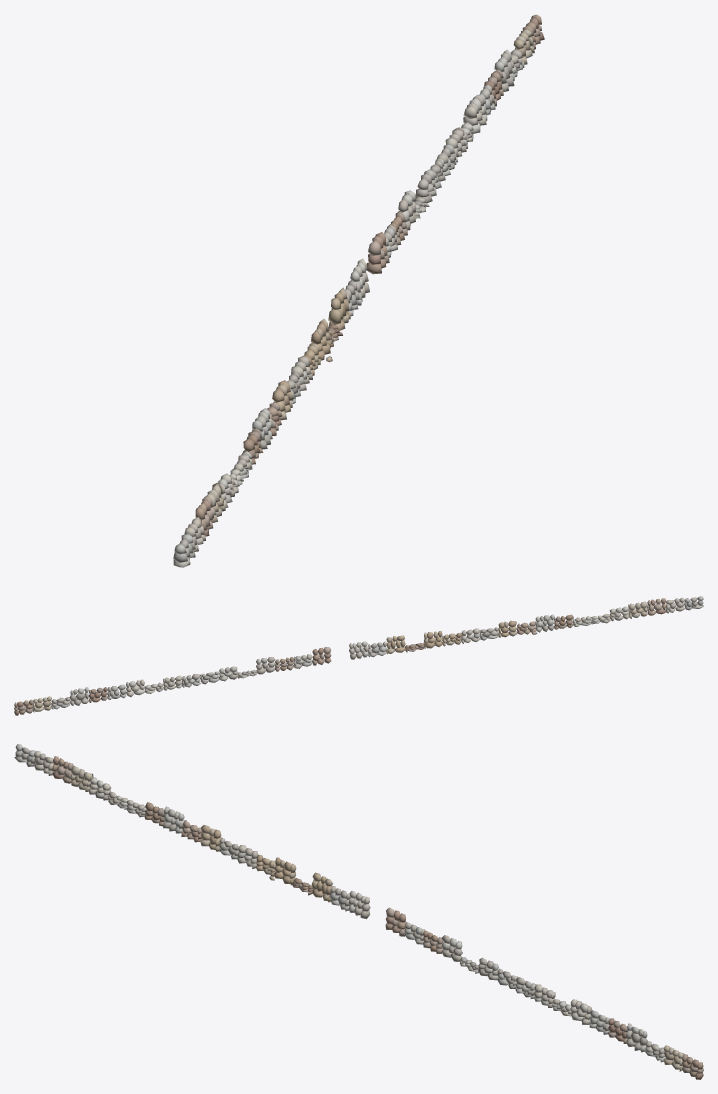
File: farm_-9_4_near.glb
3 renders of one model, top to bottom at view 1: azimuth 30°, elevation 25°; view 2: azimuth 150°, elevation 25°; view 3: azimuth 270°, elevation 25°, orthographic. The views are drawn at different scales.
Parts seen in each view (by area): view 1: geometry_0; view 2: geometry_0; view 3: geometry_0.
Part boxes in pixels (bbox=[...]): geometry_0: bbox=[173, 14, 544, 567]; geometry_0: bbox=[14, 596, 703, 715]; geometry_0: bbox=[14, 744, 703, 1079].
Bounding box in the file's own units: 41.08 × 3.74 × 41.78.
